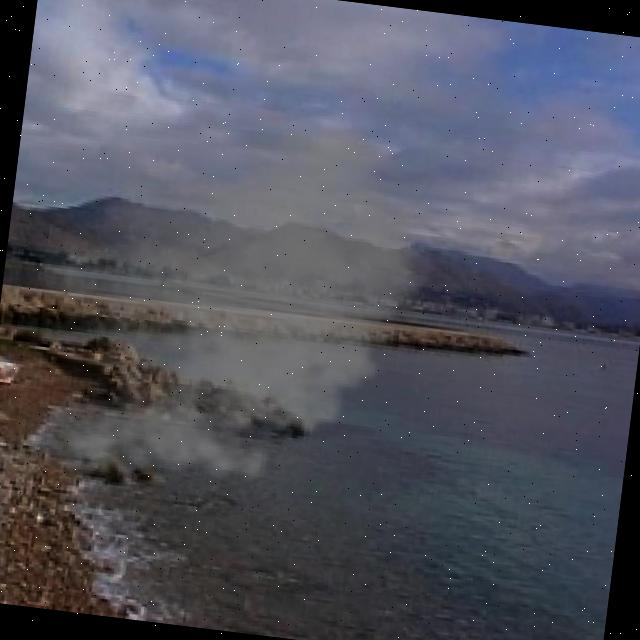smoke: (12, 84, 464, 527)
